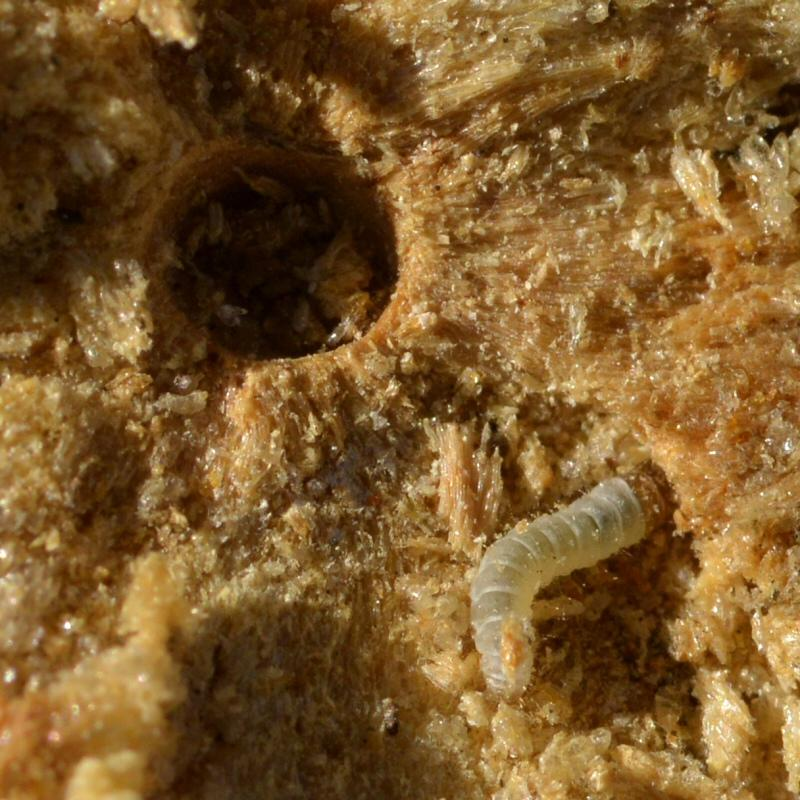grub: (464, 444, 665, 714)
